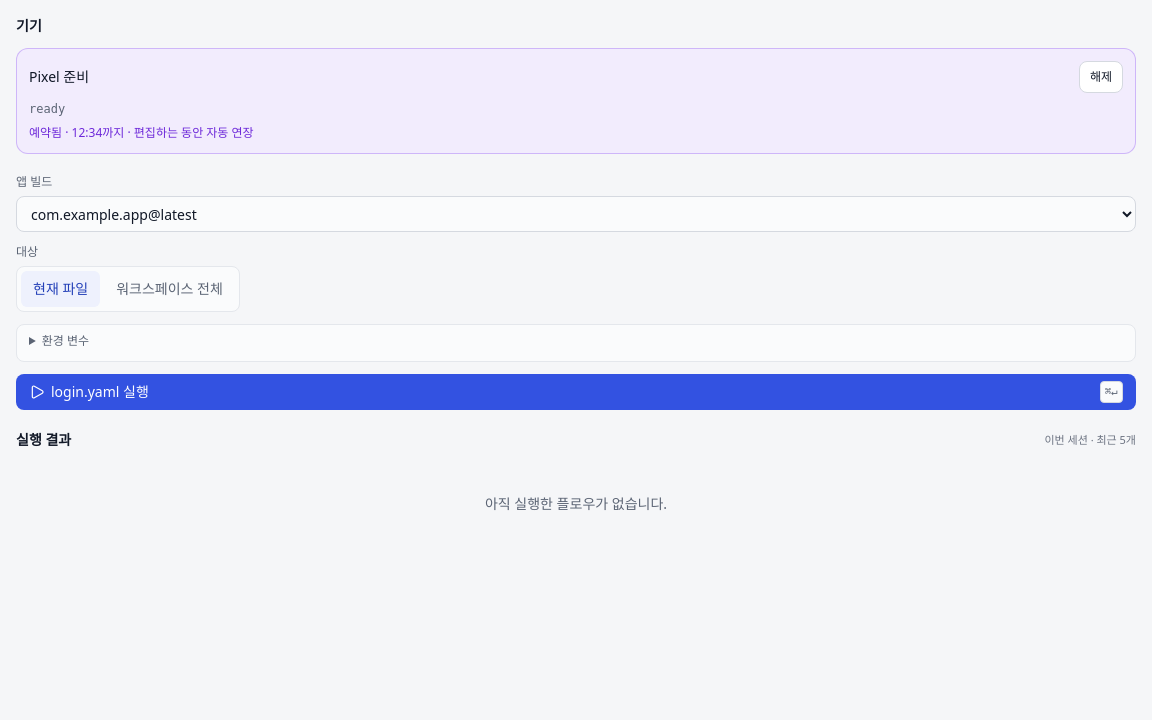
it: rejects malformed environment lines without submitting or echoing their values
Click the heading "환경 변수" at (65, 340), box left=42, top=332, right=89, bottom=349
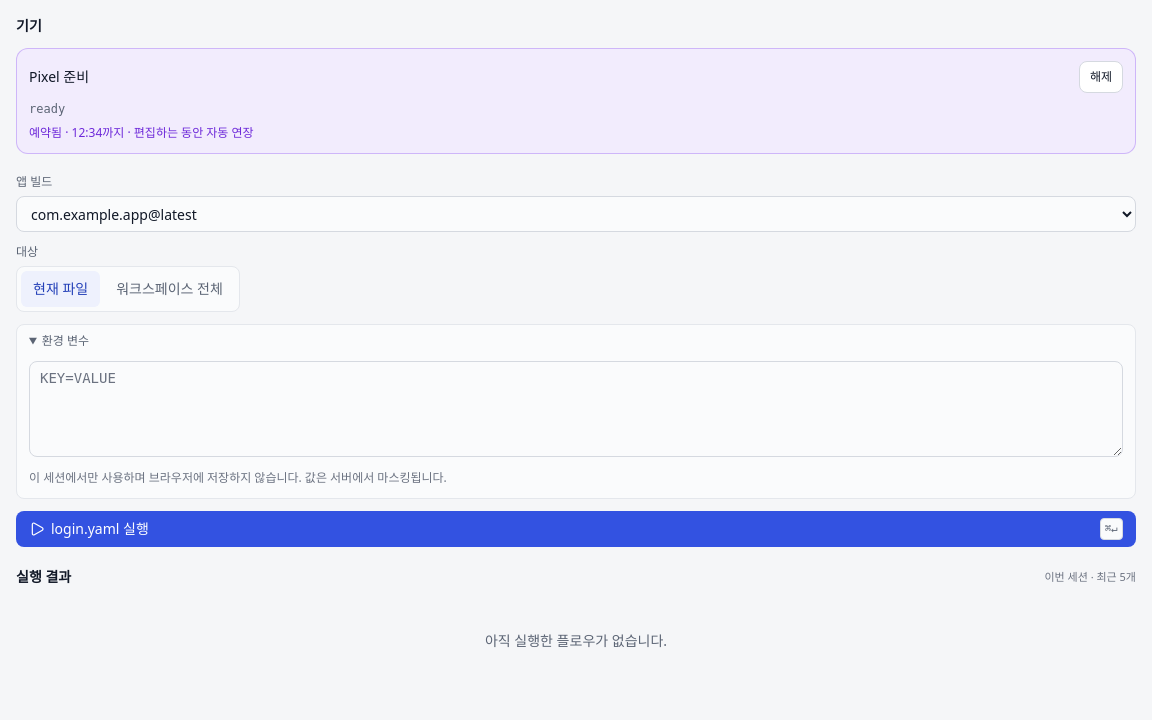
Type "bad-key=private" into the text box named "환경 변수" at (576, 409), box left=29, top=361, right=1123, bottom=457
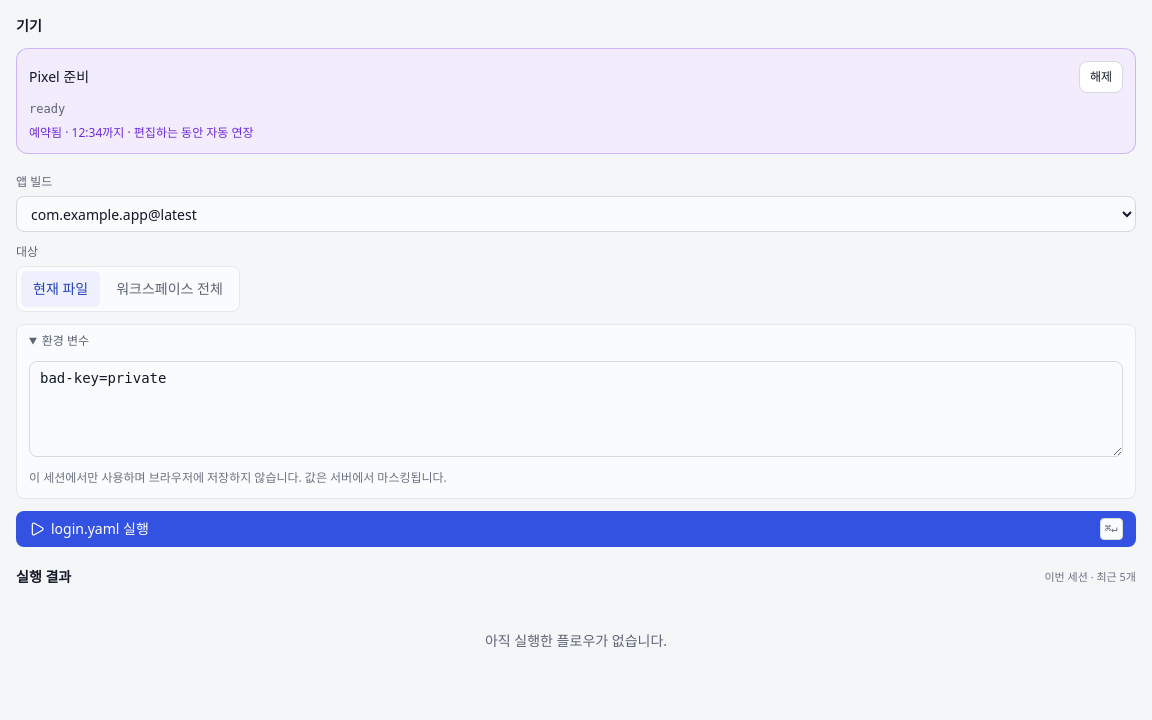
Press Enter
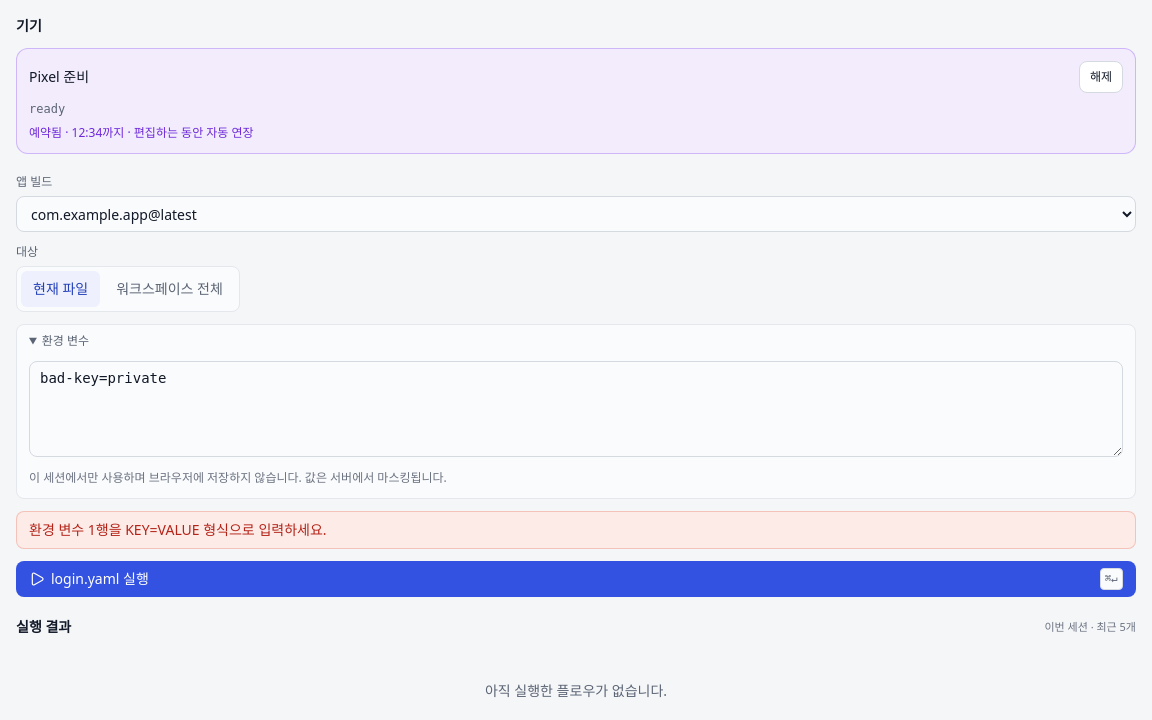
Check: the message does not show "private", box left=16, top=511, right=1136, bottom=549
Check: the message reads "환경 변수 1행을 KEY=VALUE 형식으로 입력하세요.", box left=29, top=520, right=326, bottom=539
